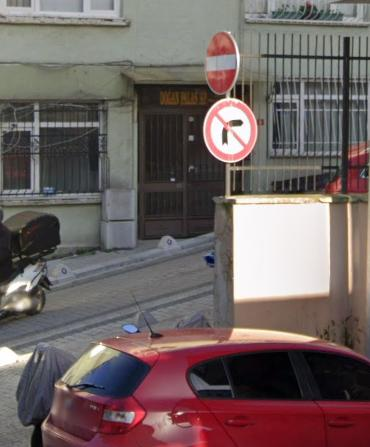rightturnsareforbidden: (201, 98, 259, 164)
